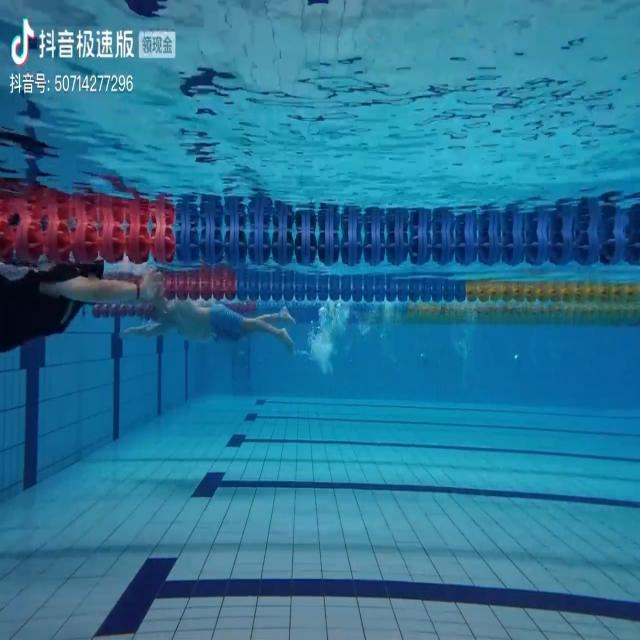Swimming: (2, 266, 166, 346), (114, 298, 296, 354)
